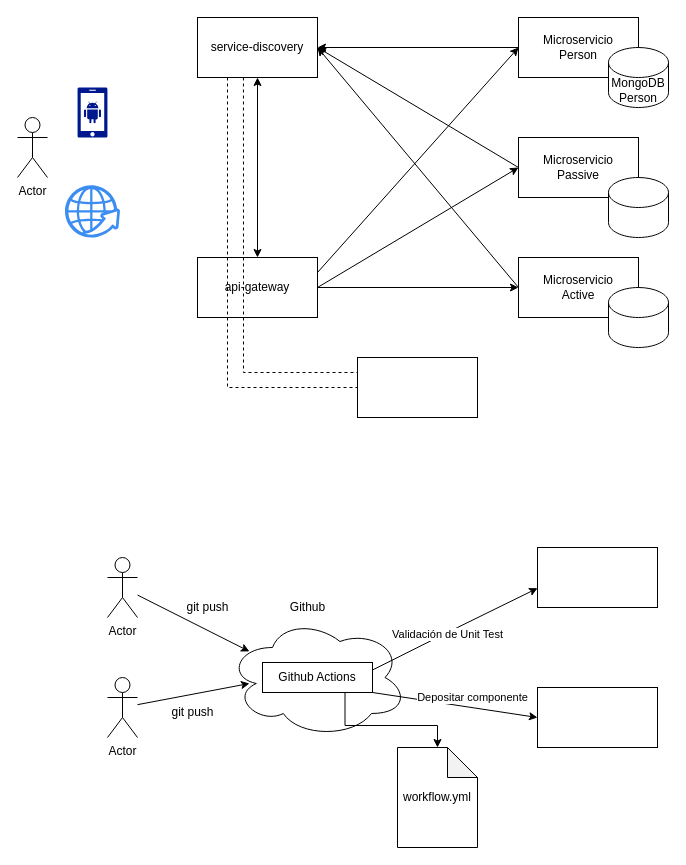
This 686x865 diagram has some shape labels left out. Here are the shapes that lost their labels. From the top down, the centre of each, then its label:
At [638,207]: "MongoDB Passive".
At [638,317]: "MongoDB Active".
At [417,387]: "config-server".
At [597,577]: "sonarqube".
At [597,717]: "Artifactory (Jforg)".
